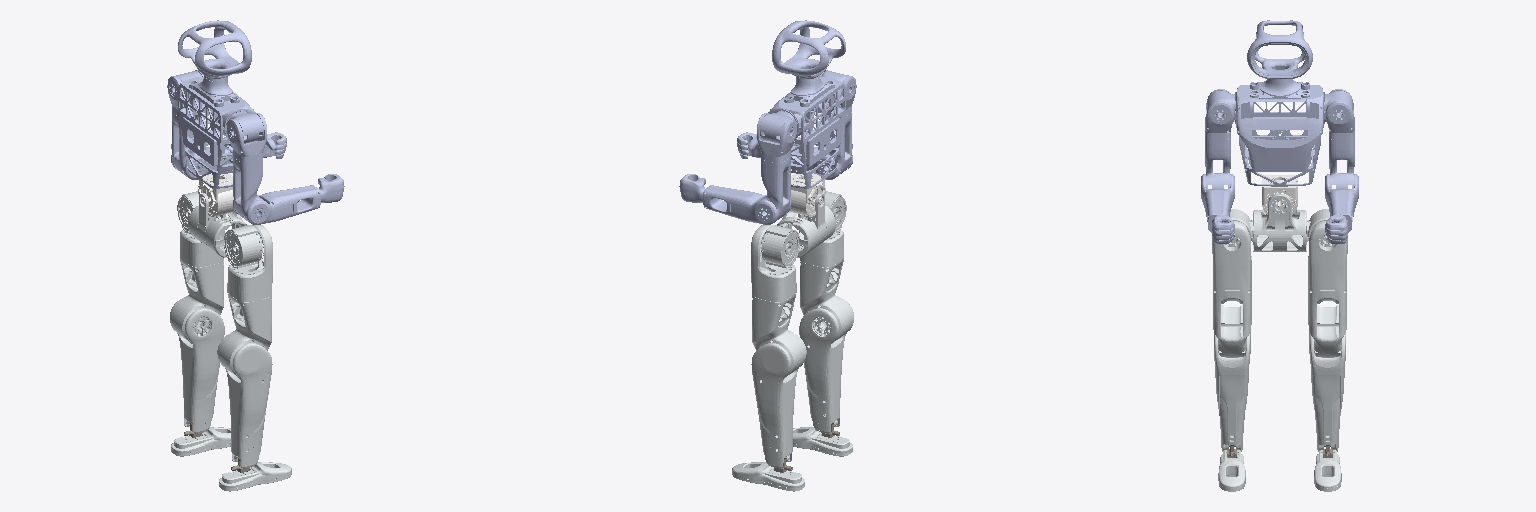
--- What the picture shows (computed from the rendered views, not written in the file) ---
Views: 3 orthographic renders of the robot side by side, from view 1: azimuth 30°, elevation 25°; view 2: azimuth 150°, elevation 25°; view 3: azimuth 270°, elevation 25°.
Robot: ATOM02 — 25 links, 24 joints (24 revolute); root link base_link; default pose: all joints at 0.
Visible links, largest first — view 1: torso_yaw_link, right_knee_link, left_knee_link, left_thigh_yaw_link, right_thigh_yaw_link, right_thigh_roll_link, base_link, right_thigh_pitch_link, right_elbow_yaw_link, right_ankle_roll_link, right_shoulder_yaw_link, right_elbow_pitch_link (+7 smaller); view 2: torso_yaw_link, left_knee_link, right_knee_link, right_thigh_yaw_link, left_thigh_yaw_link, left_thigh_roll_link, base_link, left_thigh_pitch_link, left_elbow_yaw_link, left_ankle_roll_link, left_shoulder_yaw_link, left_elbow_pitch_link (+7 smaller); view 3: torso_yaw_link, left_knee_link, right_knee_link, base_link, left_thigh_yaw_link, right_thigh_yaw_link, left_thigh_roll_link, right_thigh_roll_link, left_shoulder_yaw_link, right_shoulder_yaw_link, left_elbow_yaw_link, right_elbow_yaw_link (+7 smaller).
Link boxes in pixels (x1,y1,x2,y2): torso_yaw_link: (178, 20, 255, 188); right_knee_link: (217, 334, 272, 468); left_knee_link: (170, 299, 224, 433); left_thigh_yaw_link: (170, 258, 223, 340); right_thigh_yaw_link: (218, 292, 271, 376); right_thigh_roll_link: (227, 225, 272, 301); base_link: (188, 193, 246, 257); right_thigh_pitch_link: (215, 225, 262, 268); right_elbow_yaw_link: (285, 174, 344, 216); right_ankle_roll_link: (219, 462, 291, 491); right_shoulder_yaw_link: (233, 157, 262, 220); right_elbow_pitch_link: (233, 190, 292, 224); torso_yaw_link: (768, 20, 845, 188); left_knee_link: (751, 334, 806, 468); right_knee_link: (799, 299, 853, 433); right_thigh_yaw_link: (800, 258, 853, 340); left_thigh_yaw_link: (752, 292, 805, 376); left_thigh_roll_link: (751, 225, 796, 301); base_link: (777, 193, 835, 257); left_thigh_pitch_link: (761, 225, 808, 268); left_elbow_yaw_link: (679, 174, 738, 216); left_ankle_roll_link: (732, 462, 804, 491); left_shoulder_yaw_link: (761, 157, 790, 220); left_elbow_pitch_link: (731, 190, 790, 224); torso_yaw_link: (1235, 20, 1324, 186); left_knee_link: (1309, 331, 1345, 451); right_knee_link: (1214, 331, 1250, 451); base_link: (1251, 194, 1308, 251); left_thigh_yaw_link: (1308, 285, 1346, 357); right_thigh_yaw_link: (1213, 285, 1251, 357); left_thigh_roll_link: (1308, 221, 1347, 289); right_thigh_roll_link: (1212, 221, 1251, 289); left_shoulder_yaw_link: (1329, 138, 1354, 188); right_shoulder_yaw_link: (1205, 138, 1230, 188); left_elbow_yaw_link: (1325, 199, 1353, 243); right_elbow_yaw_link: (1206, 199, 1234, 243).
Size in the robot's own frame: 0.3899 by 0.4183 by 1.29 metres.
Meshes: 25 distinct files referenced, 25 mesh visuals loaded (25 binary STL).

robot.urdf — ATOM02:
<?xml version="1.0" encoding="utf-8"?>
<!-- This URDF was automatically created by SolidWorks to URDF Exporter! Originally created by Stephen Brawner ([email redacted]) 
     Commit Version: 1.6.0-4-g7f85cfe  Build Version: 1.6.7995.38578
     For more information, please see http://wiki.ros.org/sw_urdf_exporter -->
<robot
  name="ATOM02">
  <link
    name="base_link">
    <inertial>
      <origin
        xyz="0.0426945929688825 0.00148737267167587 -0.0241809712463922"
        rpy="0 0 0" />
      <mass
        value="3.23595958" />
      <inertia
        ixx="0.01504054"
        ixy="0.00048618"
        ixz="-0.00504802"
        iyy="0.01750647"
        iyz="-0.00034172"
        izz="0.01820607" />
    </inertial>
    <visual>
      <origin
        xyz="0 0 0"
        rpy="0 0 0" />
      <geometry>
        <mesh
          filename="./meshes/base_link.STL" />
      </geometry>
      <material
        name="">
        <color
          rgba="0.898039215686275 0.917647058823529 0.929411764705882 1" />
      </material>
    </visual>
    <collision>
      <origin
        xyz="0 0 0"
        rpy="0 0 0" />
      <geometry>
        <mesh
          filename="./meshes/base_link.STL" />
      </geometry>
    </collision>
  </link>
  <link
    name="left_thigh_pitch_link">
    <inertial>
      <origin
        xyz="0.00433081783795993 -0.00846409127354864 1.15359525446057E-05"
        rpy="0 0 0" />
      <mass
        value="1.45950912" />
      <inertia
        ixx="0.00636828"
        ixy="0.00082521"
        ixz="0.00001676"
        iyy="0.00186447"
        iyz="0.00003711"
        izz="0.00614137" />
    </inertial>
    <visual>
      <origin
        xyz="0 0 0"
        rpy="0 0 0" />
      <geometry>
        <mesh
          filename="./meshes/left_thigh_pitch_link.STL" />
      </geometry>
      <material
        name="">
        <color
          rgba="0.898039215686275 0.917647058823529 0.929411764705882 1" />
      </material>
    </visual>
    <collision>
      <origin
        xyz="0 0 0"
        rpy="0 0 0" />
      <geometry>
        <mesh
          filename="./meshes/left_thigh_pitch_link.STL" />
      </geometry>
    </collision>
  </link>
  <joint
    name="left_thigh_pitch_joint"
    type="revolute">
    <origin
      xyz="0.043915 0.1286 -0.036743"
      rpy="0 0 0" />
    <parent
      link="base_link" />
    <child
      link="left_thigh_pitch_link" />
    <axis
      xyz="0 1 0" />
    <limit
      lower="-2.862"
      upper="2.862"
      effort="140"
      velocity="1.2" />
  </joint>
  <link
    name="left_thigh_roll_link">
    <inertial>
      <origin
        xyz="0.00427363423171547 -0.0040249982403292 -0.0129865815538047"
        rpy="0 0 0" />
      <mass
        value="1.90711030732957" />
      <inertia
        ixx="0.02253575"
        ixy="0.00000925"
        ixz="0.00211972"
        iyy="0.02267290"
        iyz="0.00007777"
        izz="0.00306051" />
    </inertial>
    <visual>
      <origin
        xyz="0 0 0"
        rpy="0 0 0" />
      <geometry>
        <mesh
          filename="./meshes/left_thigh_roll_link.STL" />
      </geometry>
      <material
        name="">
        <color
          rgba="0.898039215686275 0.917647058823529 0.929411764705882 1" />
      </material>
    </visual>
    <collision>
      <origin
        xyz="0 0 0"
        rpy="0 0 0" />
      <geometry>
        <mesh
          filename="./meshes/left_thigh_roll_link.STL" />
      </geometry>
    </collision>
  </link>
  <joint
    name="left_thigh_roll_joint"
    type="revolute">
    <origin
      xyz="0 0 0"
      rpy="0 0 0" />
    <parent
      link="left_thigh_pitch_link" />
    <child
      link="left_thigh_roll_link" />
    <axis
      xyz="1 0 0" />
    <limit
      lower="-0.1745"
      upper="2.6878"
      effort="140"
      velocity="12" />
  </joint>
  <link
    name="left_thigh_yaw_link">
    <inertial>
      <origin
        xyz="-0.00897791991505894 0.000916285170142084 -0.313717683033613"
        rpy="0 0 0" />
      <mass
        value="2.32668441" />
      <inertia
        ixx="0.05527065"
        ixy="0.00022496"
        ixz="0.00609411"
        iyy="0.05610703"
        iyz="0.00147990"
        izz="0.00449839" />
    </inertial>
    <visual>
      <origin
        xyz="0 0 0"
        rpy="0 0 0" />
      <geometry>
        <mesh
          filename="./meshes/left_thigh_yaw_link.STL" />
      </geometry>
      <material
        name="">
        <color
          rgba="0.898039215686275 0.917647058823529 0.929411764705882 1" />
      </material>
    </visual>
    <collision>
      <origin
        xyz="0 0 0"
        rpy="0 0 0" />
      <geometry>
        <mesh
          filename="./meshes/left_thigh_yaw_link.STL" />
      </geometry>
    </collision>
  </link>
  <joint
    name="left_thigh_yaw_joint"
    type="revolute">
    <origin
      xyz="0.020233 0 0"
      rpy="0 0 0" />
    <parent
      link="left_thigh_roll_link" />
    <child
      link="left_thigh_yaw_link" />
    <axis
      xyz="0 0 -1" />
    <limit
      lower="-1.9199"
      upper="1.9199"
      effort="140"
      velocity="12" />
  </joint>
  <link
    name="left_knee_link">
    <inertial>
      <origin
        xyz="0.0180038551048904 4.27446807210741E-06 0.143728685313681"
        rpy="0 0 0" />
      <mass
        value="2.18421456" />
      <inertia
        ixx="0.06382030"
        ixy="0.00136231"
        ixz="-0.00604208"
        iyy="0.06250280"
        iyz="-0.00998488"
        izz="0.00564158" />
    </inertial>
    <visual>
      <origin
        xyz="0 0 0"
        rpy="0 0 0" />
      <geometry>
        <mesh
          filename="./meshes/left_knee_link.STL" />
      </geometry>
      <material
        name="">
        <color
          rgba="0.898039215686275 0.917647058823529 0.929411764705882 1" />
      </material>
    </visual>
    <collision>
      <origin
        xyz="0 0 0"
        rpy="0 0 0" />
      <geometry>
        <mesh
          filename="./meshes/left_knee_link.STL" />
      </geometry>
    </collision>
  </link>
  <joint
    name="left_knee_joint"
    type="revolute">
    <origin
      xyz="-0.0259105994324788 0 -0.315911806813306"
      rpy="0 0 0" />
    <parent
      link="left_thigh_yaw_link" />
    <child
      link="left_knee_link" />
    <axis
      xyz="0 -1 0" />
    <limit
      lower="-2.7925"
      upper="0.2618"
      effort="140"
      velocity="12" />
  </joint>
  <link
    name="left_ankle_pitch_link">
    <inertial>
      <origin
        xyz="-0.000916659331079805 2.3285817718488E-12 -0.0142487687135151"
        rpy="0 0 0" />
      <mass
        value="0.22519575" />
      <inertia
        ixx="0.00008717"
        ixy="0.00000000"
        ixz="0.00000141"
        iyy="0.00008949"
        iyz="0.00000000"
        izz="0.00003727" />
    </inertial>
    <visual>
      <origin
        xyz="0 0 0"
        rpy="0 0 0" />
      <geometry>
        <mesh
          filename="./meshes/left_ankle_pitch_link.STL" />
      </geometry>
      <material
        name="">
        <color
          rgba="0.650980392156863 0.619607843137255 0.588235294117647 1" />
      </material>
    </visual>
    <collision>
      <origin
        xyz="0 0 0"
        rpy="0 0 0" />
      <geometry>
        <mesh
          filename="./meshes/left_ankle_pitch_link.STL" />
      </geometry>
    </collision>
  </link>
  <joint
    name="left_ankle_pitch_joint"
    type="revolute">
    <origin
      xyz="0.00538908374941682 0 -0.310500012478865"
      rpy="0 0 0" />
    <parent
      link="left_knee_link" />
    <child
      link="left_ankle_pitch_link" />
    <axis
      xyz="0 -1 0" />
    <limit
      lower="-0.5236"
      upper="0.6981"
      effort="60"
      velocity="12" />
  </joint>
  <link
    name="left_ankle_roll_link">
    <inertial>
      <origin
        xyz="0.029826 5.0235E-08 -0.032259"
        rpy="0 0 0" />
      <mass
        value="0.58290878" />
      <inertia
        ixx="0.00066194"
        ixy="0.00000000"
        ixz="-0.00037265"
        iyy="0.00212616"
        iyz="0.00000000"
        izz="0.00177612" />
    </inertial>
    <visual>
      <origin
        xyz="0 0 0"
        rpy="0 0 0" />
      <geometry>
        <mesh
          filename="./meshes/left_ankle_roll_link.STL" />
      </geometry>
      <material
        name="">
        <color
          rgba="0.89804 0.91765 0.92941 1" />
      </material>
    </visual>
    <collision>
      <origin
        xyz="0 0 0"
        rpy="0 0 0" />
      <geometry>
        <mesh
          filename="./meshes/left_ankle_roll_link.STL" />
      </geometry>
    </collision>
  </link>
  <joint
    name="left_ankle_roll_joint"
    type="revolute">
    <origin
      xyz="0.000288640584767348 0 -0.018968626966601"
      rpy="0 0 0" />
    <parent
      link="left_ankle_pitch_link" />
    <child
      link="left_ankle_roll_link" />
    <axis
      xyz="1 0 0" />
    <limit
      lower="-0.2618"
      upper="0.2618"
      effort="60"
      velocity="12" />
  </joint>
  <link
    name="right_thigh_pitch_link">
    <inertial>
      <origin
        xyz="0.00433081783180763 0.0084662133507678 4.58152789528654E-06"
        rpy="0 0 0" />
      <mass
        value="1.44712395" />
      <inertia
        ixx="0.00635258"
        ixy="-0.00079426"
        ixz="0.00001469"
        iyy="0.00184533"
        iyz="-0.00002816"
        izz="0.00611154" />
    </inertial>
    <visual>
      <origin
        xyz="0 0 0"
        rpy="0 0 0" />
      <geometry>
        <mesh
          filename="./meshes/right_thigh_pitch_link.STL" />
      </geometry>
      <material
        name="">
        <color
          rgba="0.898039215686275 0.917647058823529 0.929411764705882 1" />
      </material>
    </visual>
    <collision>
      <origin
        xyz="0 0 0"
        rpy="0 0 0" />
      <geometry>
        <mesh
          filename="./meshes/right_thigh_pitch_link.STL" />
      </geometry>
    </collision>
  </link>
  <joint
    name="right_thigh_pitch_joint"
    type="revolute">
    <origin
      xyz="0.043915 -0.1256 -0.036743"
      rpy="0 0 0" />
    <parent
      link="base_link" />
    <child
      link="right_thigh_pitch_link" />
    <axis
      xyz="0 -1 0" />
    <limit
      lower="-2.862"
      upper="2.862"
      effort="140"
      velocity="1.2" />
  </joint>
  <link
    name="right_thigh_roll_link">
    <inertial>
      <origin
        xyz="0.00428556068904451 0.00402674942751025 -0.012964969034475"
        rpy="0 0 0" />
      <mass
        value="1.91914876" />
      <inertia
        ixx="0.02217446"
        ixy="-0.00002035"
        ixz="0.00214489"
        iyy="0.02233629"
        iyz="0.00000733"
        izz="0.00316980" />
    </inertial>
    <visual>
      <origin
        xyz="0 0 0"
        rpy="0 0 0" />
      <geometry>
        <mesh
          filename="./meshes/right_thigh_roll_link.STL" />
      </geometry>
      <material
        name="">
        <color
          rgba="0.898039215686275 0.917647058823529 0.929411764705882 1" />
      </material>
    </visual>
    <collision>
      <origin
        xyz="0 0 0"
        rpy="0 0 0" />
      <geometry>
        <mesh
          filename="./meshes/right_thigh_roll_link.STL" />
      </geometry>
    </collision>
  </link>
  <joint
    name="right_thigh_roll_joint"
    type="revolute">
    <origin
      xyz="0 0 0"
      rpy="0 0 0" />
    <parent
      link="right_thigh_pitch_link" />
    <child
      link="right_thigh_roll_link" />
    <axis
      xyz="1 0 0" />
    <limit
      lower="-2.6878"
      upper="0.1745"
      effort="140"
      velocity="12" />
  </joint>
  <link
    name="right_thigh_yaw_link">
    <inertial>
      <origin
        xyz="-0.00941357789851324 -2.7930899234585E-06 -0.324209334803403"
        rpy="0 0 0" />
      <mass
        value="2.32668364" />
      <inertia
        ixx="0.05532166"
        ixy="-0.00022101"
        ixz="0.00616549"
        iyy="0.05617178"
        iyz="-0.00149921"
        izz="0.00451460" />
    </inertial>
    <visual>
      <origin
        xyz="0 0 0"
        rpy="0 0 0" />
      <geometry>
        <mesh
          filename="./meshes/right_thigh_yaw_link.STL" />
      </geometry>
      <material
        name="">
        <color
          rgba="0.898039215686275 0.917647058823529 0.929411764705882 1" />
      </material>
    </visual>
    <collision>
      <origin
        xyz="0 0 0"
        rpy="0 0 0" />
      <geometry>
        <mesh
          filename="./meshes/right_thigh_yaw_link.STL" />
      </geometry>
    </collision>
  </link>
  <joint
    name="right_thigh_yaw_joint"
    type="revolute">
    <origin
      xyz="0.0202328750983638 0 0"
      rpy="0 0 0" />
    <parent
      link="right_thigh_roll_link" />
    <child
      link="right_thigh_yaw_link" />
    <axis
      xyz="0 0 -1" />
    <limit
      lower="-1.9199"
      upper="1.9199"
      effort="140"
      velocity="12" />
  </joint>
  <link
    name="right_knee_link">
    <inertial>
      <origin
        xyz="0.0180136963898656 7.09786177399696E-06 0.143609725581421"
        rpy="0 0 0" />
      <mass
        value="2.16342478" />
      <inertia
        ixx="0.06328279"
        ixy="-0.00135632"
        ixz="-0.00604122"
        iyy="0.06198315"
        iyz="0.00989178"
        izz="0.00561077" />
    </inertial>
    <visual>
      <origin
        xyz="0 0 0"
        rpy="0 0 0" />
      <geometry>
        <mesh
          filename="./meshes/right_knee_link.STL" />
      </geometry>
      <material
        name="">
        <color
          rgba="0.898039215686275 0.917647058823529 0.929411764705882 1" />
      </material>
    </visual>
    <collision>
      <origin
        xyz="0 0 0"
        rpy="0 0 0" />
      <geometry>
        <mesh
          filename="./meshes/right_knee_link.STL" />
      </geometry>
    </collision>
  </link>
  <joint
    name="right_knee_joint"
    type="revolute">
    <origin
      xyz="-0.0259105994325459 0 -0.315911818718635"
      rpy="0 0 0" />
    <parent
      link="right_thigh_yaw_link" />
    <child
      link="right_knee_link" />
    <axis
      xyz="0 1 0" />
    <limit
      lower="-0.2618"
      upper="2.7925"
      effort="140"
      velocity="12" />
  </joint>
  <link
    name="right_ankle_pitch_link">
    <inertial>
      <origin
        xyz="-0.000916659331045119 2.32158736679366E-12 -0.0142487568081484"
        rpy="0 0 0" />
      <mass
        value="0.22519575" />
      <inertia
        ixx="0.00008717"
        ixy="0.00000000"
        ixz="0.00000141"
        iyy="0.00008949"
        iyz="0.00000000"
        izz="0.00003727" />
    </inertial>
    <visual>
      <origin
        xyz="0 0 0"
        rpy="0 0 0" />
      <geometry>
        <mesh
          filename="./meshes/right_ankle_pitch_link.STL" />
      </geometry>
      <material
        name="">
        <color
          rgba="0.650980392156863 0.619607843137255 0.588235294117647 1" />
      </material>
    </visual>
    <collision>
      <origin
        xyz="0 0 0"
        rpy="0 0 0" />
      <geometry>
        <mesh
          filename="./meshes/right_ankle_pitch_link.STL" />
      </geometry>
    </collision>
  </link>
  <joint
    name="right_ankle_pitch_joint"
    type="revolute">
    <origin
      xyz="0.00538908374941711 0 -0.310500012478865"
      rpy="0 0 0" />
    <parent
      link="right_knee_link" />
    <child
      link="right_ankle_pitch_link" />
    <axis
      xyz="0 1 0" />
    <limit
      lower="-0.6981"
      upper="0.5236"
      effort="60"
      velocity="12" />
  </joint>
  <link
    name="right_ankle_roll_link">
    <inertial>
      <origin
        xyz="0.0298256266559766 6.51135200202546E-08 -0.0322592152687466"
        rpy="0 0 0" />
      <mass
        value="0.58290878" />
      <inertia
        ixx="0.00066194"
        ixy="0.00000000"
        ixz="-0.00037265"
        iyy="0.00212616"
        iyz="0.00000000"
        izz="0.00177612" />
    </inertial>
    <visual>
      <origin
        xyz="0 0 0"
        rpy="0 0 0" />
      <geometry>
        <mesh
          filename="./meshes/right_ankle_roll_link.STL" />
      </geometry>
      <material
        name="">
        <color
          rgba="0.898039215686275 0.917647058823529 0.929411764705882 1" />
      </material>
    </visual>
    <collision>
      <origin
        xyz="0 0 0"
        rpy="0 0 0" />
      <geometry>
        <mesh
          filename="./meshes/right_ankle_roll_link.STL" />
      </geometry>
    </collision>
  </link>
  <joint
    name="right_ankle_roll_joint"
    type="revolute">
    <origin
      xyz="0.000288640584765455 0 -0.0189686150614563"
      rpy="0 0 0" />
    <parent
      link="right_ankle_pitch_link" />
    <child
      link="right_ankle_roll_link" />
    <axis
      xyz="1 0 0" />
    <limit
      lower="-0.2618"
      upper="0.2618"
      effort="60"
      velocity="12" />
  </joint>
  <link
    name="torso_roll_link">
    <inertial>
      <origin
        xyz="0 0 0"
        rpy="0 0 0" />
      <mass
        value="1.50165300" />
      <inertia
        ixx="0.00215606"
        ixy="0.00000396"
        ixz="-0.00024047"
        iyy="0.00298480"
        iyz="0.00001154"
        izz="0.00282389" />
    </inertial>
    <visual>
      <origin
        xyz="0 0 0"
        rpy="0 0 0" />
      <geometry>
        <mesh
          filename="./meshes/torso_roll_link.STL" />
      </geometry>
      <material
        name="">
        <color
          rgba="1 1 1 1" />
      </material>
    </visual>
    <collision>
      <origin
        xyz="0 0 0"
        rpy="0 0 0" />
      <geometry>
        <mesh
          filename="./meshes/torso_roll_link.STL" />
      </geometry>
    </collision>
  </link>
  <joint
    name="torso_roll_joint"
    type="revolute">
    <origin
      xyz="0.043914999999919 0.00149999982510596 0.0582569795349133"
      rpy="0 0 0" />
    <parent
      link="base_link" />
    <child
      link="torso_roll_link" />
    <axis
      xyz="1 0 0" />
    <limit
      lower="-0.7854"
      upper="0.7854"
      effort="140"
      velocity="12" />
  </joint>
  <link
    name="torso_yaw_link">
    <inertial>
      <origin
        xyz="0.00399050743843777 6.70363075697678E-05 0.223190244062931"
        rpy="0 0 0" />
      <mass
        value="6.55523381" />
      <inertia
        ixx="0.15614275"
        ixy="-0.00002117"
        ixz="-0.00127811"
        iyy="0.14089775"
        iyz="0.00017619"
        izz="0.02788566" />
    </inertial>
    <visual>
      <origin
        xyz="0 0 0"
        rpy="0 0 0" />
      <geometry>
        <mesh
          filename="./meshes/torso_yaw_link.STL" />
      </geometry>
      <material
        name="">
        <color
          rgba="0.792156862745098 0.819607843137255 0.933333333333333 1" />
      </material>
    </visual>
    <collision>
      <origin
        xyz="0 0 0"
        rpy="0 0 0" />
      <geometry>
        <mesh
          filename="./meshes/torso_yaw_link.STL" />
      </geometry>
    </collision>
  </link>
  <joint
    name="torso_yaw_joint"
    type="revolute">
    <origin
      xyz="0 0 0"
      rpy="0 0 0" />
    <parent
      link="torso_roll_link" />
    <child
      link="torso_yaw_link" />
    <axis
      xyz="0 0 1" />
    <limit
      lower="-2.6180"
      upper="3.1415"
      effort="140"
      velocity="12" />
  </joint>
  <link
    name="left_shoulder_pitch_link">
    <inertial>
      <origin
        xyz="0.00572283416827034 0.133486264130114 0.00569460380518322"
        rpy="0 0 0" />
      <mass
        value="0.68492195" />
      <inertia
        ixx="0.00232037"
        ixy="0.00007858"
        ixz="0.00000491"
        iyy="0.00047561"
        iyz="0.00007987"
        izz="0.00234234" />
    </inertial>
    <visual>
      <origin
        xyz="0 0 0"
        rpy="0 0 0" />
      <geometry>
        <mesh
          filename="./meshes/left_shoulder_pitch_link.STL" />
      </geometry>
      <material
        name="">
        <color
          rgba="0.792156862745098 0.819607843137255 0.933333333333333 1" />
      </material>
    </visual>
    <collision>
      <origin
        xyz="0 0 0"
        rpy="0 0 0" />
      <geometry>
        <mesh
          filename="./meshes/left_shoulder_pitch_link.STL" />
      </geometry>
    </collision>
  </link>
  <joint
    name="left_shoulder_pitch_joint"
    type="revolute">
    <origin
      xyz="-0.00531236834996837 0 0.257475047221614"
      rpy="0 0 0" />
    <parent
      link="torso_yaw_link" />
    <child
      link="left_shoulder_pitch_link" />
    <axis
      xyz="0 0.999048221581858 0.0436193873653277" />
    <limit
      lower="-2.9671"
      upper="2.6180"
      effort="30"
      velocity="12" />
  </joint>
  <link
    name="left_shoulder_roll_link">
    <inertial>
      <origin
        xyz="0.00952001146745127 0.00560131858747742 -0.0306561060367536"
        rpy="0 0 0" />
      <mass
        value="0.69553781" />
      <inertia
        ixx="0.00344143"
        ixy="0.00012423"
        ixz="0.00109614"
        iyy="0.00398959"
        iyz="-0.00028597"
        izz="0.00113255" />
    </inertial>
    <visual>
      <origin
        xyz="0 0 0"
        rpy="0 0 0" />
      <geometry>
        <mesh
          filename="./meshes/left_shoulder_roll_link.STL" />
      </geometry>
      <material
        name="">
        <color
          rgba="0.792156862745098 0.819607843137255 0.933333333333333 1" />
      </material>
    </visual>
    <collision>
      <origin
        xyz="0 0 0"
        rpy="0 0 0" />
      <geometry>
        <mesh
          filename="./meshes/left_shoulder_roll_link.STL" />
      </geometry>
    </collision>
  </link>
  <joint
    name="left_shoulder_roll_joint"
    type="revolute">
    <origin
      xyz="0 0.157727108635355 0.0064438018083768"
      rpy="0 0 0" />
    <parent
      link="left_shoulder_pitch_link" />
    <child
      link="left_shoulder_roll_link" />
    <axis
      xyz="1 0 0" />
    <limit
      lower="-0.1745"
      upper="3.14159"
      effort="30"
      velocity="12" />
  </joint>
  <link
    name="left_shoulder_yaw_link">
    <inertial>
      <origin
        xyz="0.000183998490163938 -0.00664702098894654 -0.159902602188587"
        rpy="0 0 0" />
      <mass
        value="1.01870173" />
      <inertia
        ixx="0.01118753"
        ixy="0.00001870"
        ixz="-0.00056633"
        iyy="0.01115937"
        iyz="-0.00024166"
        izz="0.00081546" />
    </inertial>
    <visual>
      <origin
        xyz="0 0 0"
        rpy="0 0 0" />
      <geometry>
        <mesh
          filename="./meshes/left_shoulder_yaw_link.STL" />
      </geometry>
      <material
        name="">
        <color
          rgba="0.792156862745098 0.819607843137255 0.933333333333333 1" />
      </material>
    </visual>
    <collision>
      <origin
        xyz="0 0 0"
        rpy="0 0 0" />
      <geometry>
        <mesh
          filename="./meshes/left_shoulder_yaw_link.STL" />
      </geometry>
    </collision>
  </link>
  <joint
    name="left_shoulder_yaw_joint"
    type="revolute">
    <origin
      xyz="0 0.00647177026748297 0.000725276071402214"
      rpy="0 0 0" />
    <parent
      link="left_shoulder_roll_link" />
    <child
      link="left_shoulder_yaw_link" />
    <axis
      xyz="0 0 -1" />
    <limit
      lower="-3.14159"
      upper="3.14159"
      effort="30"
      velocity="12" />
  </joint>
  <link
    name="left_elbow_pitch_link">
    <inertial>
      <origin
        xyz="0.0444173770841133 -0.0083983002628778 -0.0104099602928093"
        rpy="0 0 0" />
      <mass
        value="0.88600228" />
      <inertia
        ixx="0.00318853"
        ixy="-0.00198012"
        ixz="-0.00033737"
        iyy="0.00463900"
        iyz="0.00022460"
        izz="0.00712691" />
    </inertial>
    <visual>
      <origin
        xyz="0 0 0"
        rpy="0 0 0" />
      <geometry>
        <mesh
          filename="./meshes/left_elbow_pitch_link.STL" />
      </geometry>
      <material
        name="">
        <color
          rgba="0.792156862745098 0.819607843137255 0.933333333333333 1" />
      </material>
    </visual>
    <collision>
      <origin
        xyz="0 0 0"
        rpy="0 0 0" />
      <geometry>
        <mesh
          filename="./meshes/left_elbow_pitch_link.STL" />
      </geometry>
    </collision>
  </link>
  <joint
    name="left_elbow_pitch_joint"
    type="revolute">
    <origin
      xyz="0.00950066749573248 0.000428960666849831 -0.230024901410875"
      rpy="0 0 0" />
    <parent
      link="left_shoulder_yaw_link" />
    <child
      link="left_elbow_pitch_link" />
    <axis
      xyz="0 -1 0" />
    <limit
      lower="-2"
      upper="1"
      effort="30"
      velocity="12" />
  </joint>
  <link
    name="left_elbow_yaw_link">
    <inertial>
      <origin
        xyz="0.227394242045541 -0.00540734423351369 0.00547955819471335"
        rpy="0 0 0" />
      <mass
        value="0.23249655" />
      <inertia
        ixx="0.00012284"
        ixy="-0.00000164"
        ixz="0.00004620"
        iyy="0.00061106"
        iyz="-0.00000022"
        izz="0.00059711" />
    </inertial>
    <visual>
      <origin
        xyz="0 0 0"
        rpy="0 0 0" />
      <geometry>
        <mesh
          filename="./meshes/left_elbow_yaw_link.STL" />
      </geometry>
      <material
        name="">
        <color
          rgba="0.792156862745098 0.819607843137255 0.933333333333333 1" />
      </material>
    </visual>
    <collision>
      <origin
        xyz="0 0 0"
        rpy="0 0 0" />
      <geometry>
        <mesh
          filename="./meshes/left_elbow_yaw_link.STL" />
      </geometry>
    </collision>
  </link>
  <joint
    name="left_elbow_yaw_joint"
    type="revolute">
    <origin
      xyz="0 0 -0.0133504827638016"
      rpy="0 0 0" />
    <parent
      link="left_elbow_pitch_link" />
    <child
      link="left_elbow_yaw_link" />
    <axis
      xyz="1 0 0" />
    <limit
      lower="-3.14159"
      upper="3.14159"
      effort="30"
      velocity="12" />
  </joint>
  <link
    name="right_shoulder_pitch_link">
    <inertial>
      <origin
        xyz="-0.00567538717138532 -0.133486276497267 0.00569432899053771"
        rpy="0 0 0" />
      <mass
        value="0.68494995" />
      <inertia
        ixx="0.00232759"
        ixy="-0.00008802"
        ixz="0.00000210"
        iyy="0.00047882"
        iyz="-0.00008489"
        izz="0.00235078" />
    </inertial>
    <visual>
      <origin
        xyz="0 0 0"
        rpy="0 0 0" />
      <geometry>
        <mesh
          filename="./meshes/right_shoulder_pitch_link.STL" />
      </geometry>
      <material
        name="">
        <color
          rgba="0.792156862745098 0.819607843137255 0.933333333333333 1" />
      </material>
    </visual>
    <collision>
      <origin
        xyz="0 0 0"
        rpy="0 0 0" />
      <geometry>
        <mesh
          filename="./meshes/right_shoulder_pitch_link.STL" />
      </geometry>
    </collision>
  </link>
  <joint
    name="right_shoulder_pitch_joint"
    type="revolute">
    <origin
      xyz="-0.00531236834996837 0 0.257475047221614"
      rpy="0 0 0" />
    <parent
      link="torso_yaw_link" />
    <child
      link="right_shoulder_pitch_link" />
    <axis
      xyz="0 -0.999048221581858 0.0436193873653299" />
    <limit
      lower="-2.6180"
      upper="2.9671"
      effort="30"
      velocity="12" />
  </joint>
  <link
    name="right_shoulder_roll_link">
    <inertial>
      <origin
        xyz="-0.00952140798561743 -0.00560123236864984 -0.0306561043273919"
        rpy="0 0 0" />
      <mass
        value="0.70646494" />
      <inertia
        ixx="0.00346702"
        ixy="0.00012320"
        ixz="0.00111110"
        iyy="0.00404638"
        iyz="0.00028701"
        izz="0.00116652" />
    </inertial>
    <visual>
      <origin
        xyz="0 0 0"
        rpy="0 0 0" />
      <geometry>
        <mesh
          filename="./meshes/right_shoulder_roll_link.STL" />
      </geometry>
      <material
        name="">
        <color
          rgba="0.792156862745098 0.819607843137255 0.933333333333333 1" />
      </material>
    </visual>
    <collision>
      <origin
        xyz="0 0 0"
        rpy="0 0 0" />
      <geometry>
        <mesh
          filename="./meshes/right_shoulder_roll_link.STL" />
      </geometry>
    </collision>
  </link>
  <joint
    name="right_shoulder_roll_joint"
    type="revolute">
    <origin
      xyz="0 -0.157731572169751 0.00634362168986959"
      rpy="0 0 0" />
    <parent
      link="right_shoulder_pitch_link" />
    <child
      link="right_shoulder_roll_link" />
    <axis
      xyz="1 0 0" />
    <limit
      lower="-3.14159"
      upper="0.1745"
      effort="30"
      velocity="12" />
  </joint>
  <link
    name="right_shoulder_yaw_link">
    <inertial>
      <origin
        xyz="0.000184500652539638 -0.00664702098052161 -0.160002971035617"
        rpy="0 0 0" />
      <mass
        value="1.02101321" />
      <inertia
        ixx="0.01119198"
        ixy="-0.00000006"
        ixz="-0.00058066"
        iyy="0.01116463"
        iyz="0.00003992"
        izz="0.00081899" />
    </inertial>
    <visual>
      <origin
        xyz="0 0 0"
        rpy="0 0 0" />
      <geometry>
        <mesh
          filename="./meshes/right_shoulder_yaw_link.STL" />
      </geometry>
      <material
        name="">
        <color
          rgba="0.792156862745098 0.819607843137255 0.933333333333333 1" />
      </material>
    </visual>
    <collision>
      <origin
        xyz="0 0 0"
        rpy="0 0 0" />
      <geometry>
        <mesh
          filename="./meshes/right_shoulder_yaw_link.STL" />
      </geometry>
    </collision>
  </link>
  <joint
    name="right_shoulder_yaw_joint"
    type="revolute">
    <origin
      xyz="0 -0.00647168056291525 0.000825647150946768"
      rpy="0 0 0" />
    <parent
      link="right_shoulder_roll_link" />
    <child
      link="right_shoulder_yaw_link" />
    <axis
      xyz="0 0 -1" />
    <limit
      lower="-3.14159"
      upper="3.14159"
      effort="30"
      velocity="12" />
  </joint>
  <link
    name="right_elbow_pitch_link">
    <inertial>
      <origin
        xyz="0.0444195121887475 -0.00839829362329991 -0.0105100533330512"
        rpy="0 0 0" />
      <mass
        value="0.88408116" />
      <inertia
        ixx="0.00136198"
        ixy="0.00130205"
        ixz="-0.00073590"
        iyy="0.00467022"
        iyz="-0.00026526"
        izz="0.00510726" />
    </inertial>
    <visual>
      <origin
        xyz="0 0 0"
        rpy="0 0 0" />
      <geometry>
        <mesh
          filename="./meshes/right_elbow_pitch_link.STL" />
      </geometry>
      <material
        name="">
        <color
          rgba="0.792156862745098 0.819607843137255 0.933333333333333 1" />
      </material>
    </visual>
    <collision>
      <origin
        xyz="0 0 0"
        rpy="0 0 0" />
      <geometry>
        <mesh
          filename="./meshes/right_elbow_pitch_link.STL" />
      </geometry>
    </collision>
  </link>
  <joint
    name="right_elbow_pitch_joint"
    type="revolute">
    <origin
      xyz="0.00949985837207234 -0.000428960670245448 -0.230025092371912"
      rpy="0 0 0" />
    <parent
      link="right_shoulder_yaw_link" />
    <child
      link="right_elbow_pitch_link" />
    <axis
      xyz="0 1 0" />
    <limit
      lower="-1"
      upper="2"
      effort="30"
      velocity="12" />
  </joint>
  <link
    name="right_elbow_yaw_link">
    <inertial>
      <origin
        xyz="0.227397964445097 0.00372300928214719 0.00537944992731798"
        rpy="0 0 0" />
      <mass
        value="0.23249633" />
      <inertia
        ixx="0.00011840"
        ixy="0.00000110"
        ixz="-0.00000236"
        iyy="0.00054627"
        iyz="0.00000005"
        izz="0.00053677" />
    </inertial>
    <visual>
      <origin
        xyz="0 0 0"
        rpy="0 0 0" />
      <geometry>
        <mesh
          filename="./meshes/right_elbow_yaw_link.STL" />
      </geometry>
      <material
        name="">
        <color
          rgba="0.792156862745098 0.819607843137255 0.933333333333333 1" />
      </material>
    </visual>
    <collision>
      <origin
        xyz="0 0 0"
        rpy="0 0 0" />
      <geometry>
        <mesh
          filename="./meshes/right_elbow_yaw_link.STL" />
      </geometry>
    </collision>
  </link>
  <joint
    name="right_elbow_yaw_joint"
    type="revolute">
    <origin
      xyz="0 0 -0.0133504827638016"
      rpy="0 0 0" />
    <parent
      link="right_elbow_pitch_link" />
    <child
      link="right_elbow_yaw_link" />
    <axis
      xyz="1 0 0" />
    <limit
      lower="-3.14159"
      upper="3.14159"
      effort="30"
      velocity="12" />
  </joint>
</robot>
